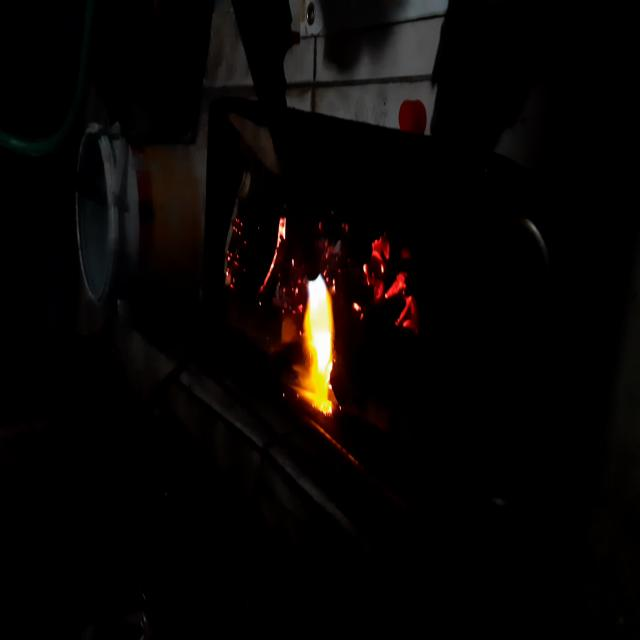Fire: (285, 250, 349, 438), (358, 223, 418, 349)
